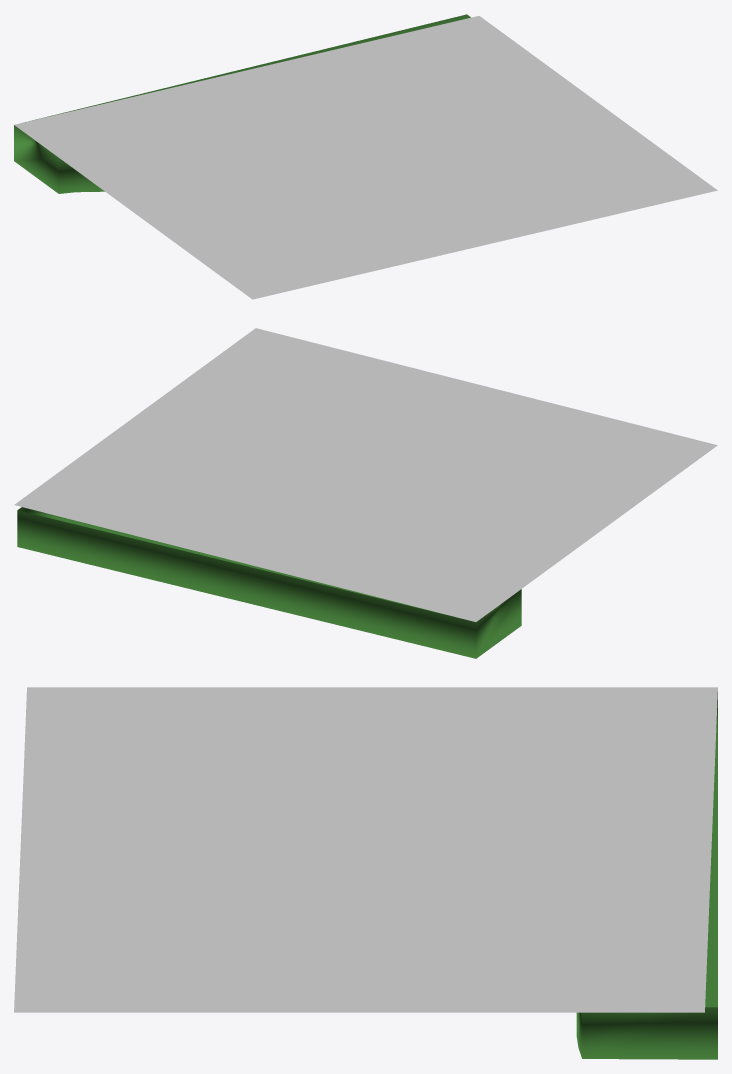
The model's file is map1.obj.
The picture shows the model from 3 angles, top to bottom: view 1: azimuth 30°, elevation 25°; view 2: azimuth 150°, elevation 25°; view 3: azimuth 270°, elevation 25°; orthographic projection. The views are drawn at different scales.
Parts seen in each view (by area): view 1: Platform, Ground; view 2: Platform, Ground; view 3: Platform, Ground.
Part boxes in pixels (bbox=[...]): Platform: bbox=[14, 16, 717, 299]; Ground: bbox=[14, 14, 470, 193]; Platform: bbox=[14, 328, 717, 621]; Ground: bbox=[17, 507, 521, 658]; Platform: bbox=[14, 687, 717, 1012]; Ground: bbox=[576, 692, 717, 1059].
Bounding box in the file's own units: 65.28 × 4.9 × 59.66.
